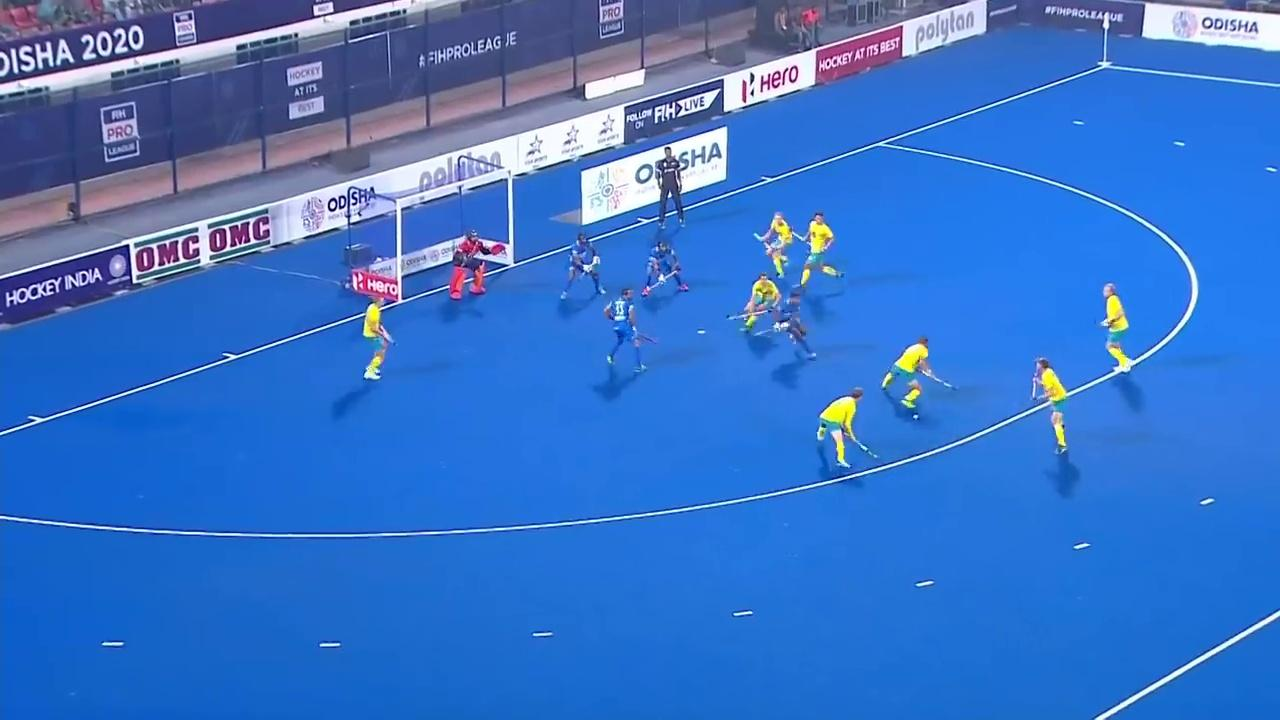ball: (911, 412, 920, 421)
